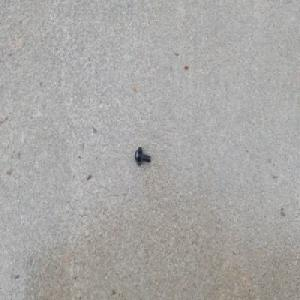BoltWasher: (134, 145, 151, 167)
